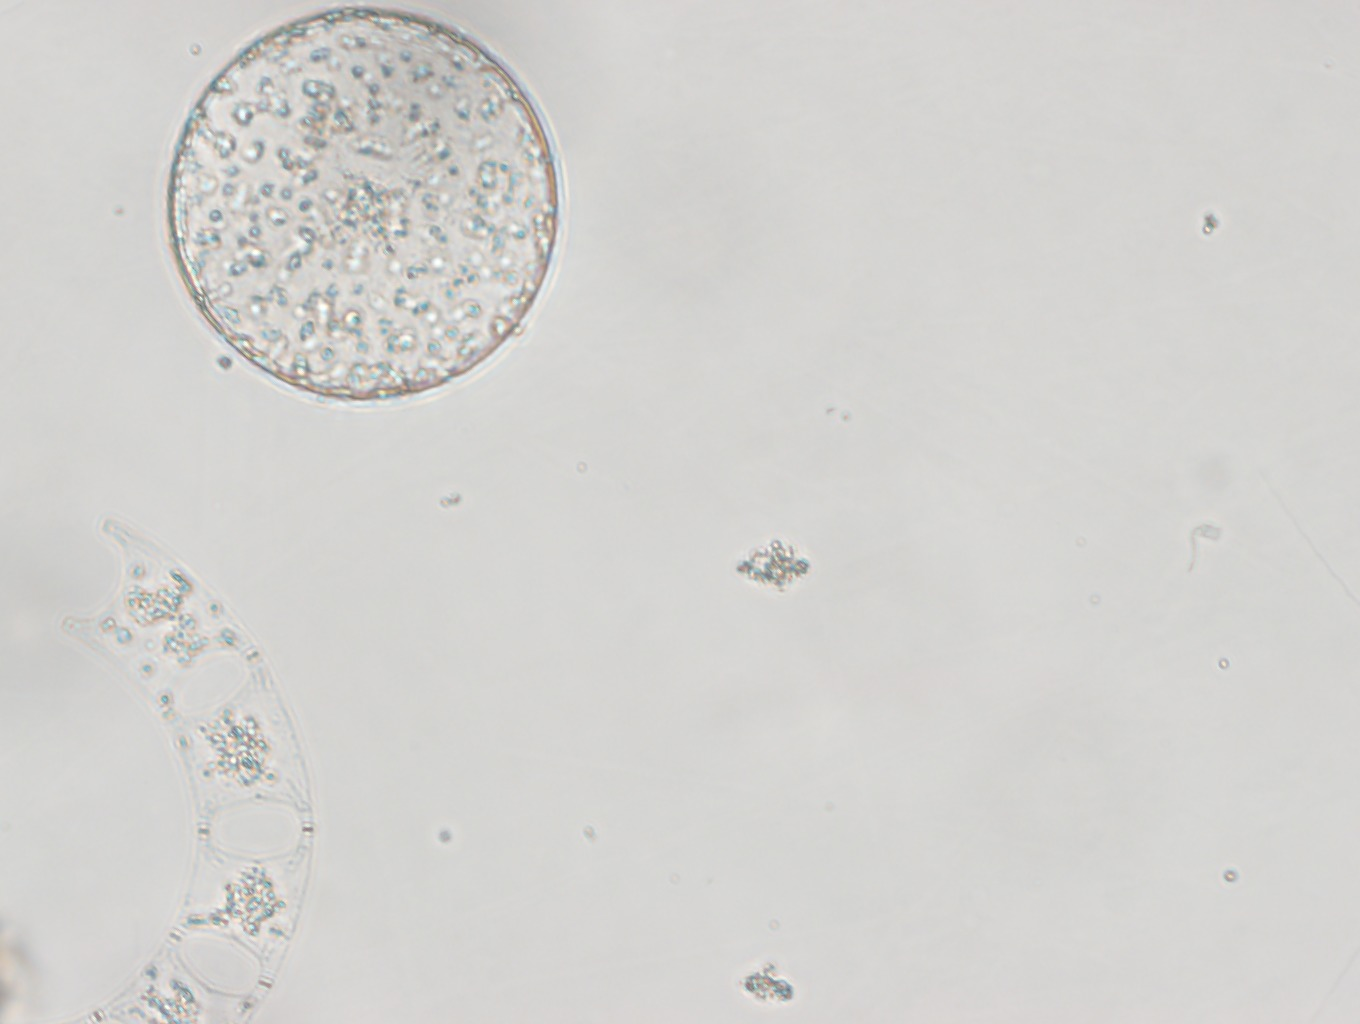coscinodiscus: (162, 8, 570, 404)
eucampia: (58, 511, 313, 1021)
